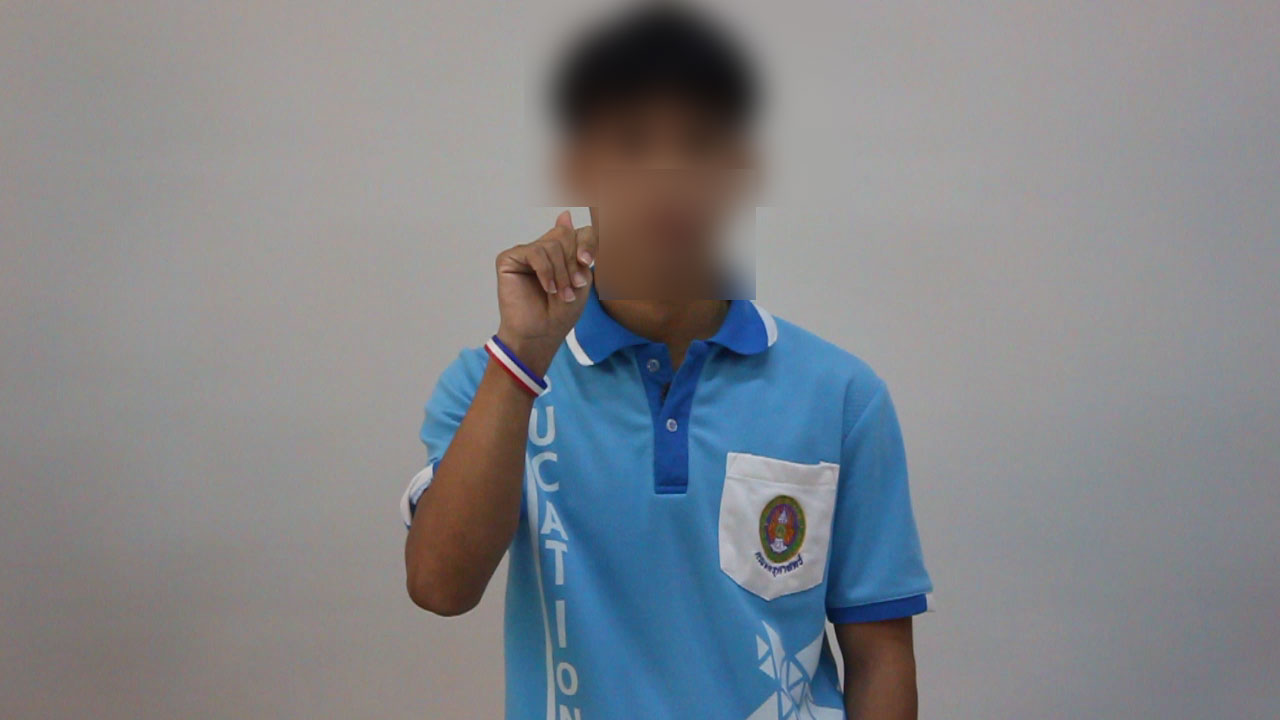tor: (478, 199, 619, 387)
